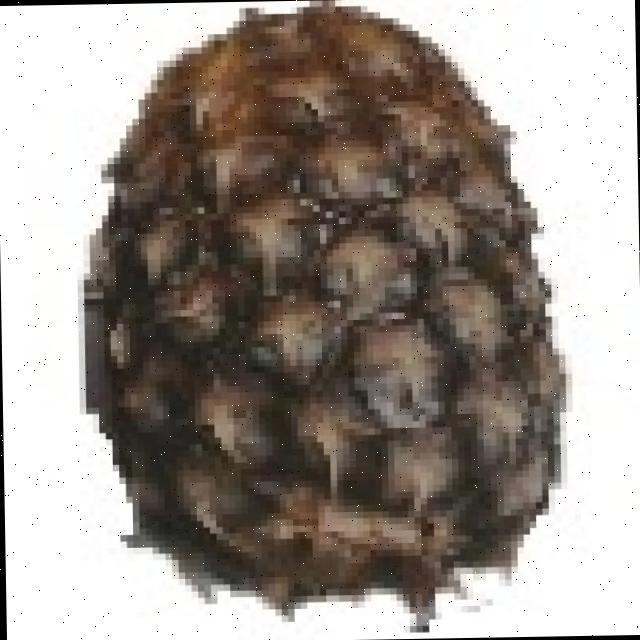pineapple: (95, 0, 570, 606)
